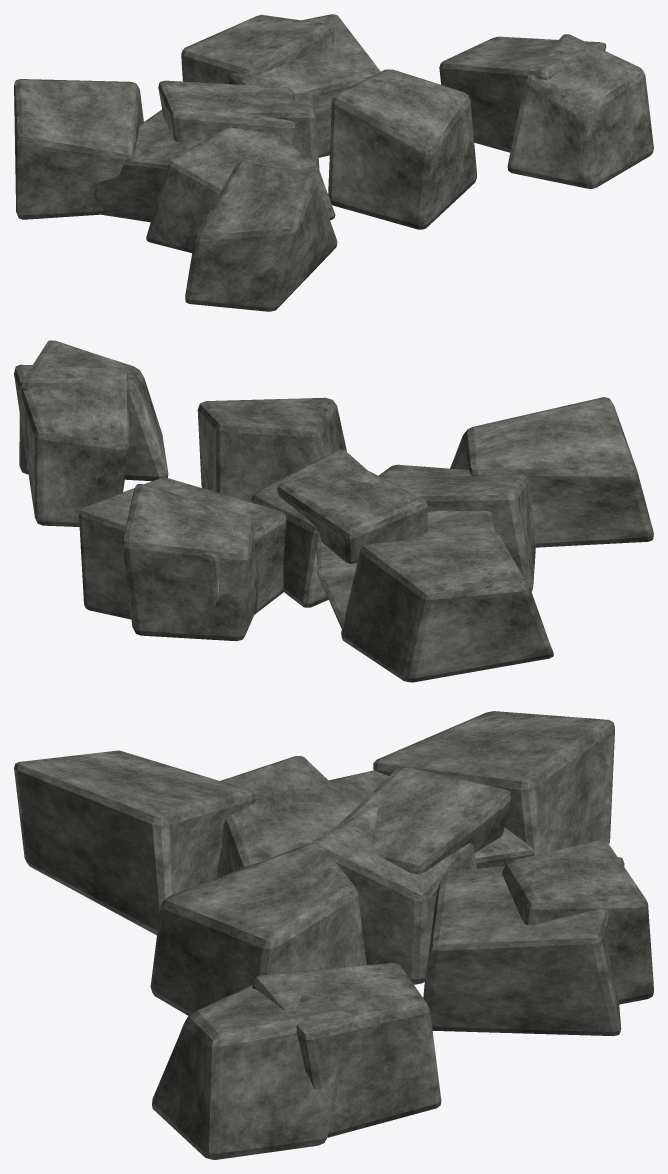
File: 08_Rubble_Cluster.glb
The picture shows the model from 3 angles, top to bottom: view 1: azimuth 30°, elevation 25°; view 2: azimuth 150°, elevation 25°; view 3: azimuth 270°, elevation 25°; orthographic projection. The views are drawn at different scales.
Parts seen in each view (by area): view 1: 08_Rubble_Cluster; view 2: 08_Rubble_Cluster; view 3: 08_Rubble_Cluster.
Part boxes in pixels (<box>): 08_Rubble_Cluster: <box>14,14,653,311</box>; 08_Rubble_Cluster: <box>14,340,653,682</box>; 08_Rubble_Cluster: <box>14,711,653,1159</box>.
Bounding box in the file's own units: 2.17 × 0.384 × 1.62.
1 material, 1 textured.
